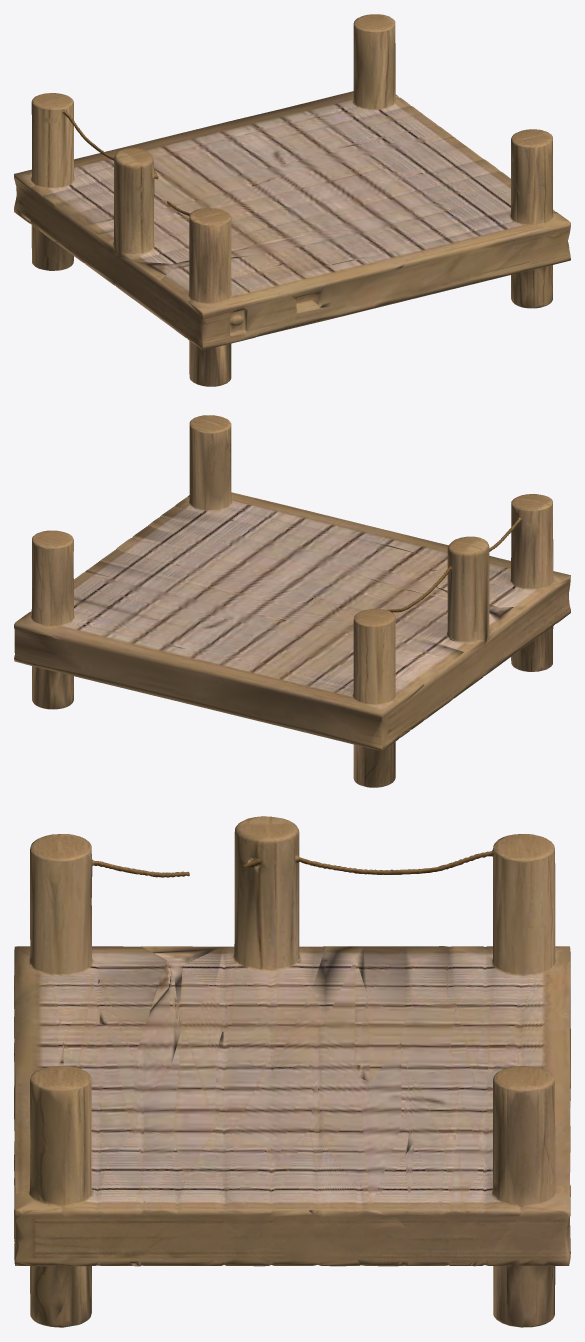
Rendered from wooden_dock.glb.
3 renders of one model, top to bottom at view 1: azimuth 30°, elevation 25°; view 2: azimuth 150°, elevation 25°; view 3: azimuth 270°, elevation 25°, orthographic. The views are drawn at different scales.
Bounding box in the file's own units: 1.91 × 0.8631 × 1.7.
Materials: 1 (1 with a texture image).
